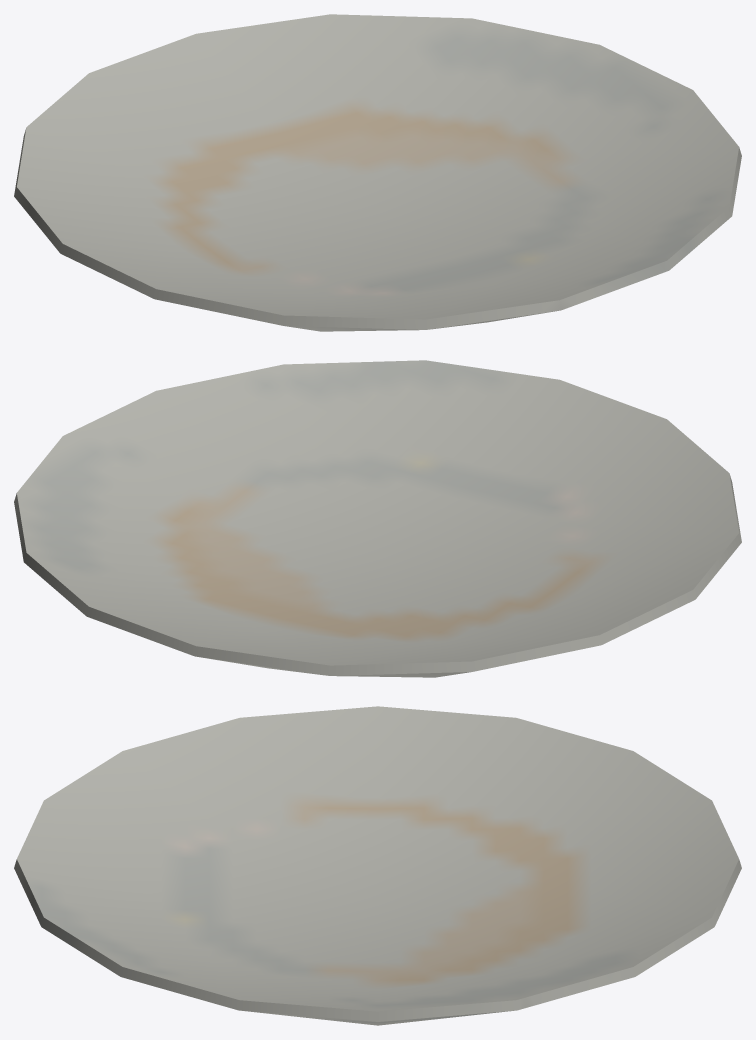
Rendered from Pixel_Misc_S_0027.fbx.
3 views of the same model, one above another, from view 1: azimuth 30°, elevation 25°; view 2: azimuth 150°, elevation 25°; view 3: azimuth 270°, elevation 25° (orthographic).
Visible parts, largest first — view 1: Pixel_Misc_S_0027; view 2: Pixel_Misc_S_0027; view 3: Pixel_Misc_S_0027.
Boxes of the visible parts, box(x1,y1,x2,y2) form: Pixel_Misc_S_0027: box(14, 14, 741, 331); Pixel_Misc_S_0027: box(14, 360, 741, 677); Pixel_Misc_S_0027: box(14, 706, 741, 1025).
Bounding box in the file's own units: 31.12 × 3.51 × 31.12.
